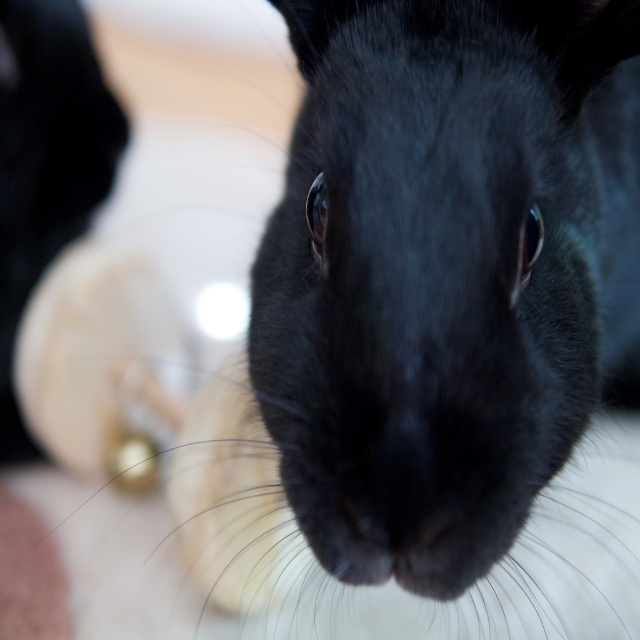Rabbit: (28, 0, 640, 639)
